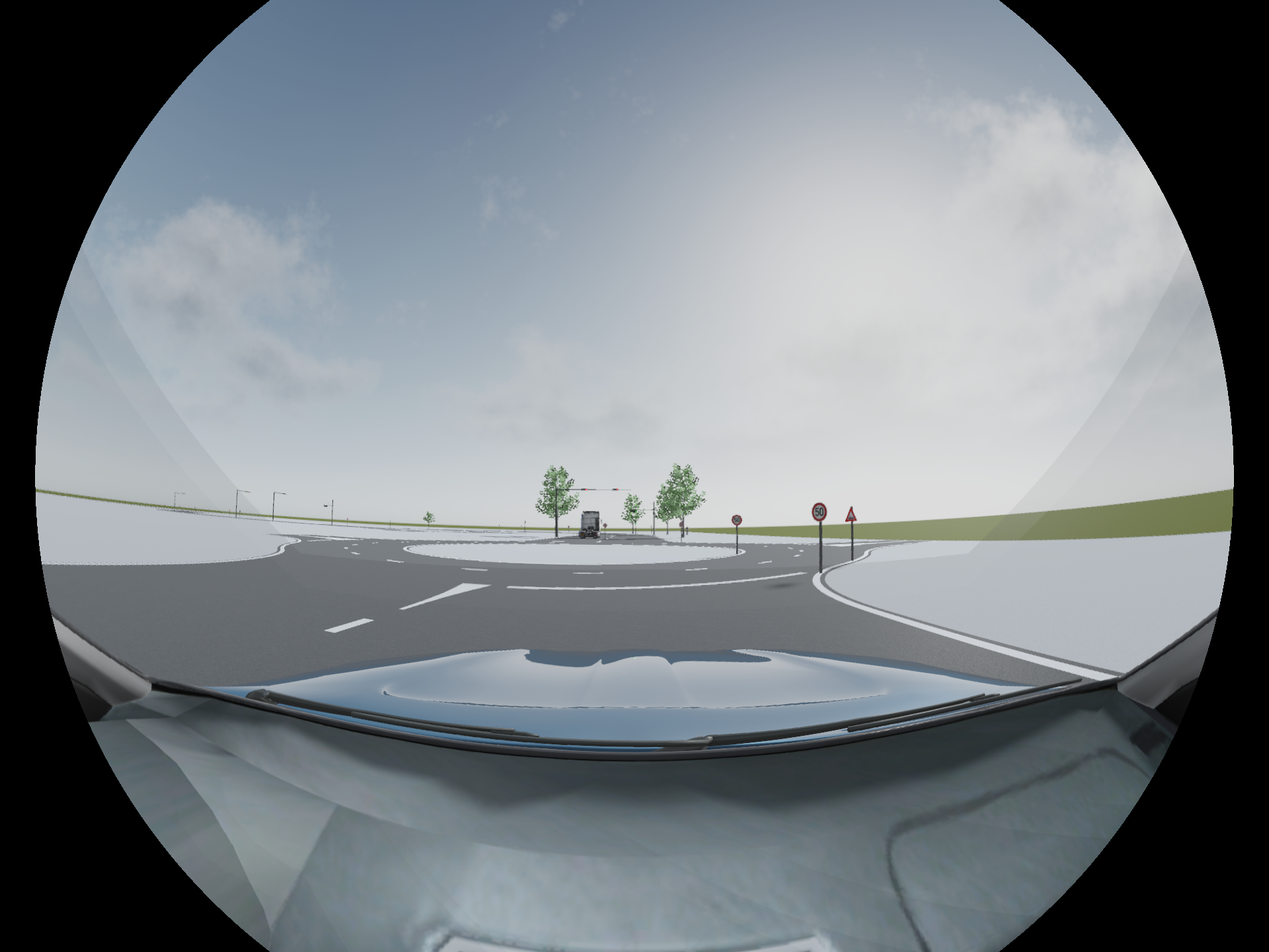Speed Limit 50: (812, 503, 827, 520), (732, 514, 743, 526)
